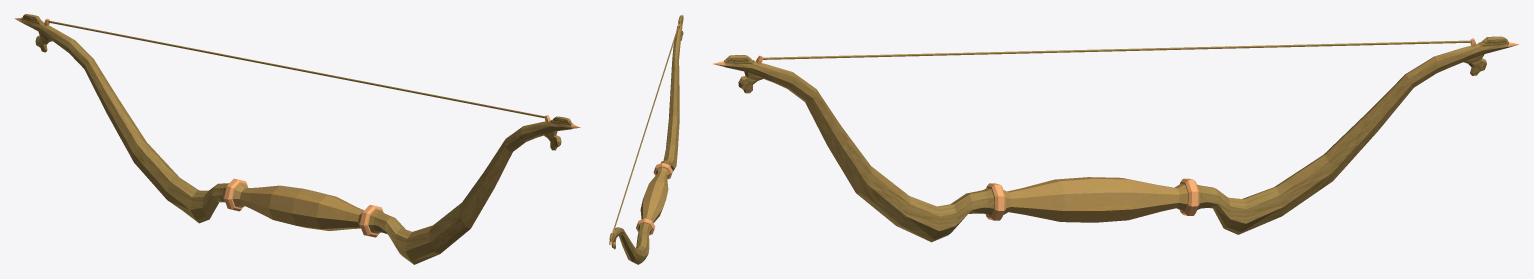
File: mhw_maciekg_short_bow.glb
3 renders of one model, left to right at view 1: azimuth 30°, elevation 25°; view 2: azimuth 150°, elevation 25°; view 3: azimuth 270°, elevation 25°, orthographic. The views are drawn at different scales.
Visible parts, largest first — view 1: mhw_maciekg_short_bow; view 2: mhw_maciekg_short_bow; view 3: mhw_maciekg_short_bow.
Part boxes in pixels (left/top/right/bottom): mhw_maciekg_short_bow: left=15, top=14, right=580, bottom=264; mhw_maciekg_short_bow: left=609, top=14, right=683, bottom=264; mhw_maciekg_short_bow: left=712, top=36, right=1518, bottom=242.
Bounding box in the file's own units: 0.3586 × 0.3541 × 0.9779.
Materials: 1 (1 with a texture image).
